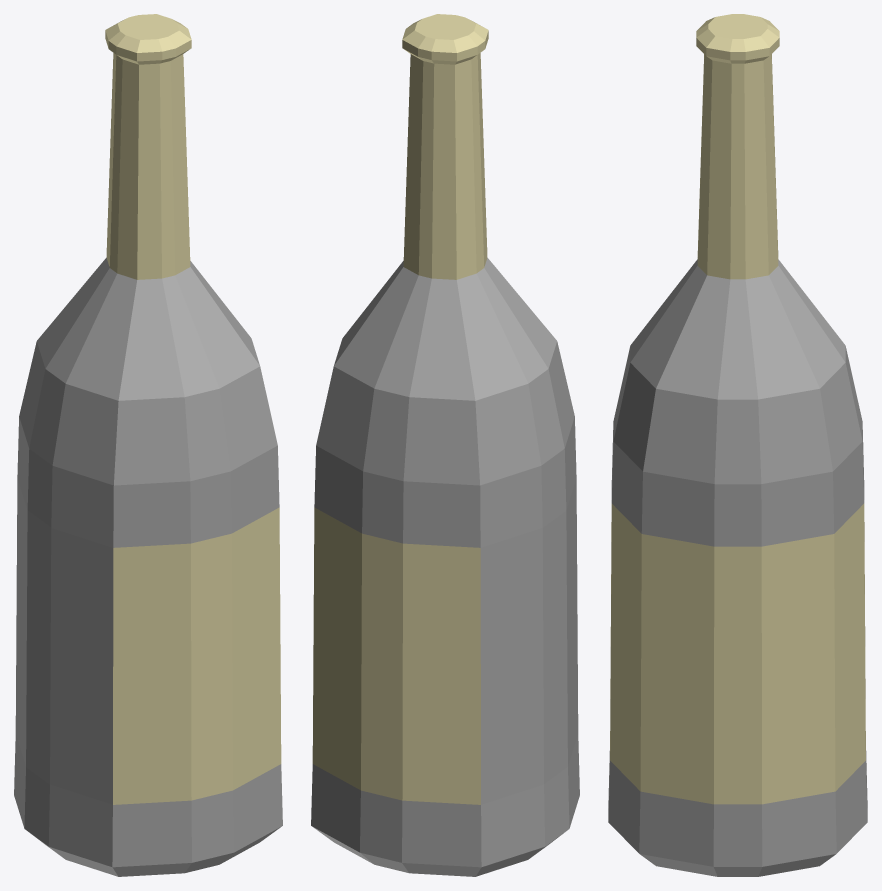
The picture shows the model from 3 angles, left to right: view 1: azimuth 30°, elevation 25°; view 2: azimuth 150°, elevation 25°; view 3: azimuth 270°, elevation 25°; orthographic projection.
Parts seen in each view (by area): view 1: F-28; view 2: F-28; view 3: F-28.
Boxes of the visible parts, left/top/right/bottom form: F-28: left=14, top=14, right=282, bottom=876; F-28: left=311, top=14, right=579, bottom=876; F-28: left=608, top=14, right=867, bottom=876.
Size of the model in its own units: 24.26 by 83.19 by 24.26.
